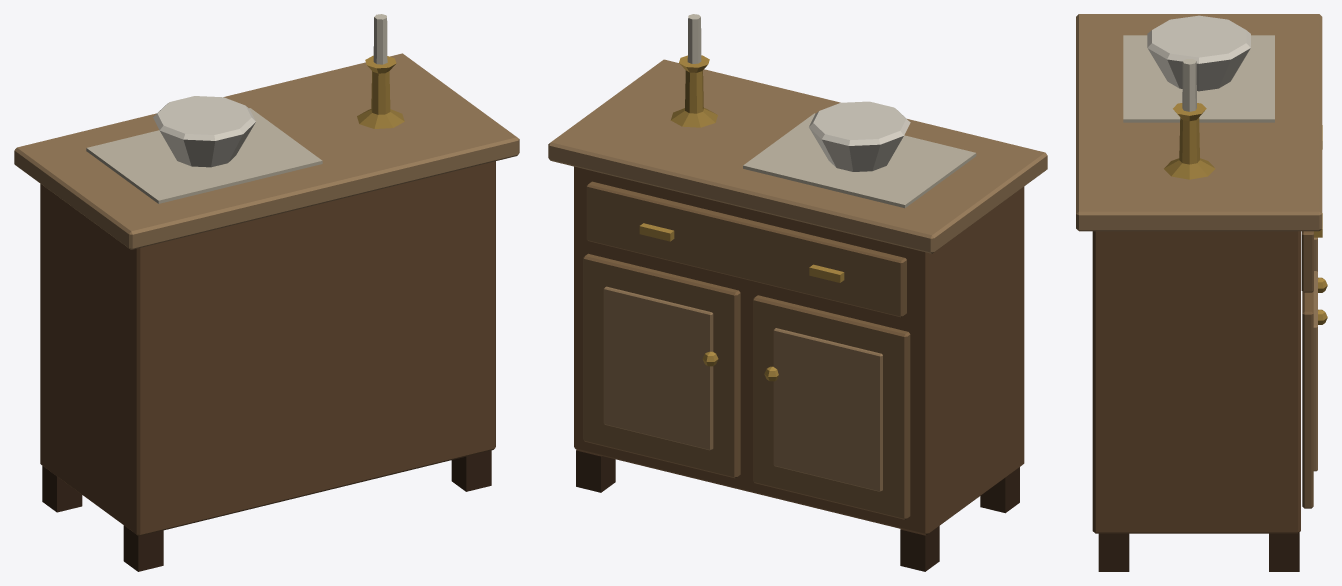
The model's file is prop_cupboard.glb.
3 views of the same model, side by side, from view 1: azimuth 30°, elevation 25°; view 2: azimuth 150°, elevation 25°; view 3: azimuth 270°, elevation 25° (orthographic). The views are drawn at different scales.
Parts seen in each view (by area): view 1: prop_cupboard; view 2: prop_cupboard; view 3: prop_cupboard.
Part boxes in pixels (x1,y1,x2,y2): prop_cupboard: [14, 14, 519, 571]; prop_cupboard: [548, 14, 1047, 571]; prop_cupboard: [1076, 14, 1327, 571].
Bounding box in the file's own units: 1 × 1.11 × 0.532.
